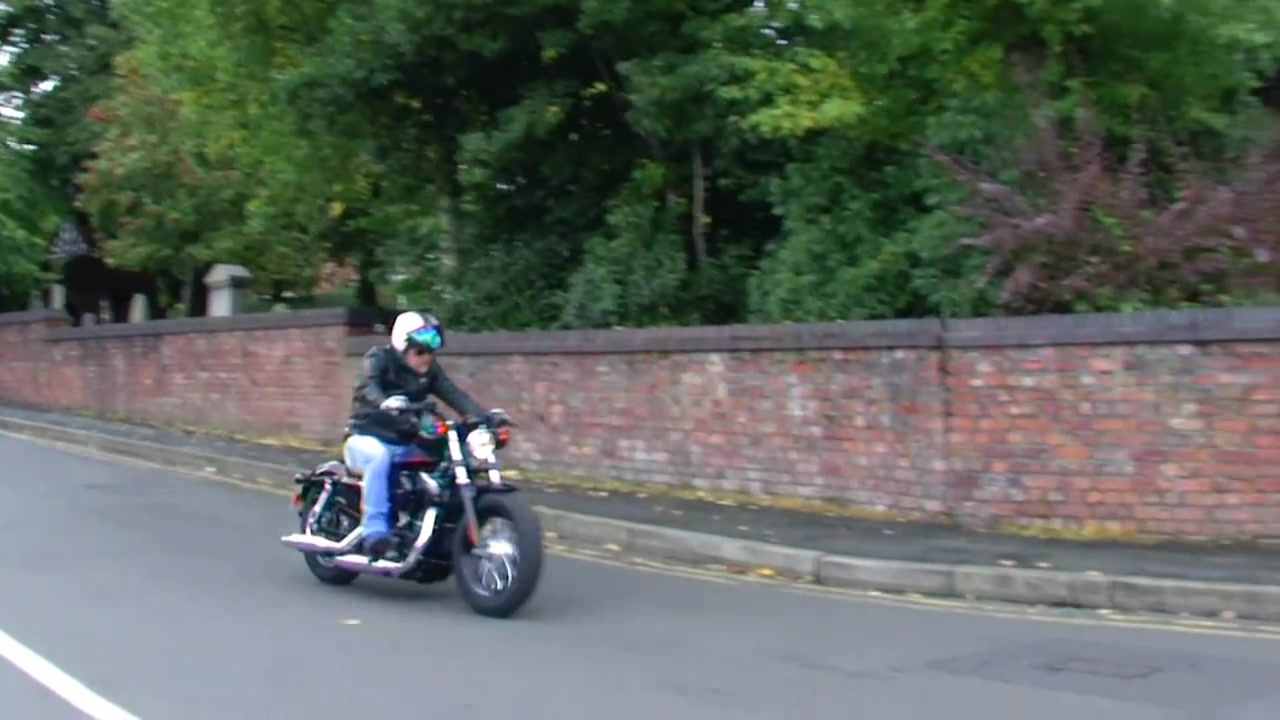motorbike: (282, 406, 550, 621)
